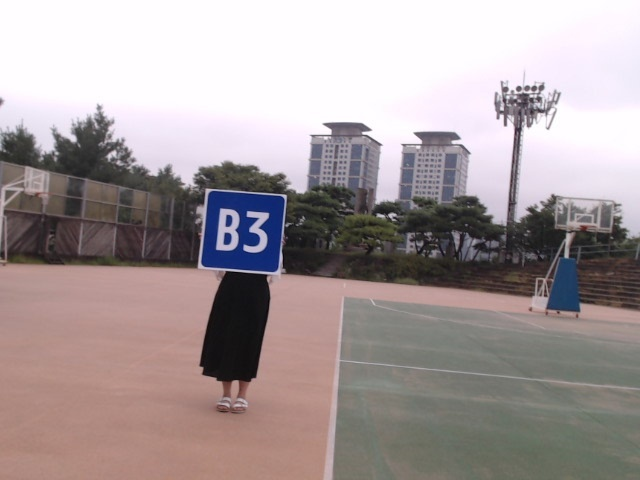delivery_b3: (200, 189, 285, 275)
